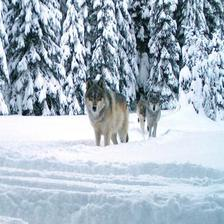WOLF: (83, 78, 130, 145), (148, 90, 162, 137)
